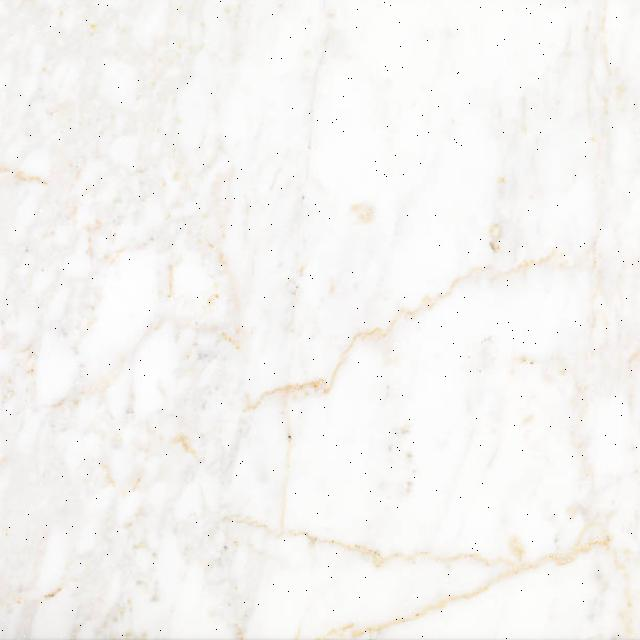Metamorphic: (3, 5, 636, 634)
